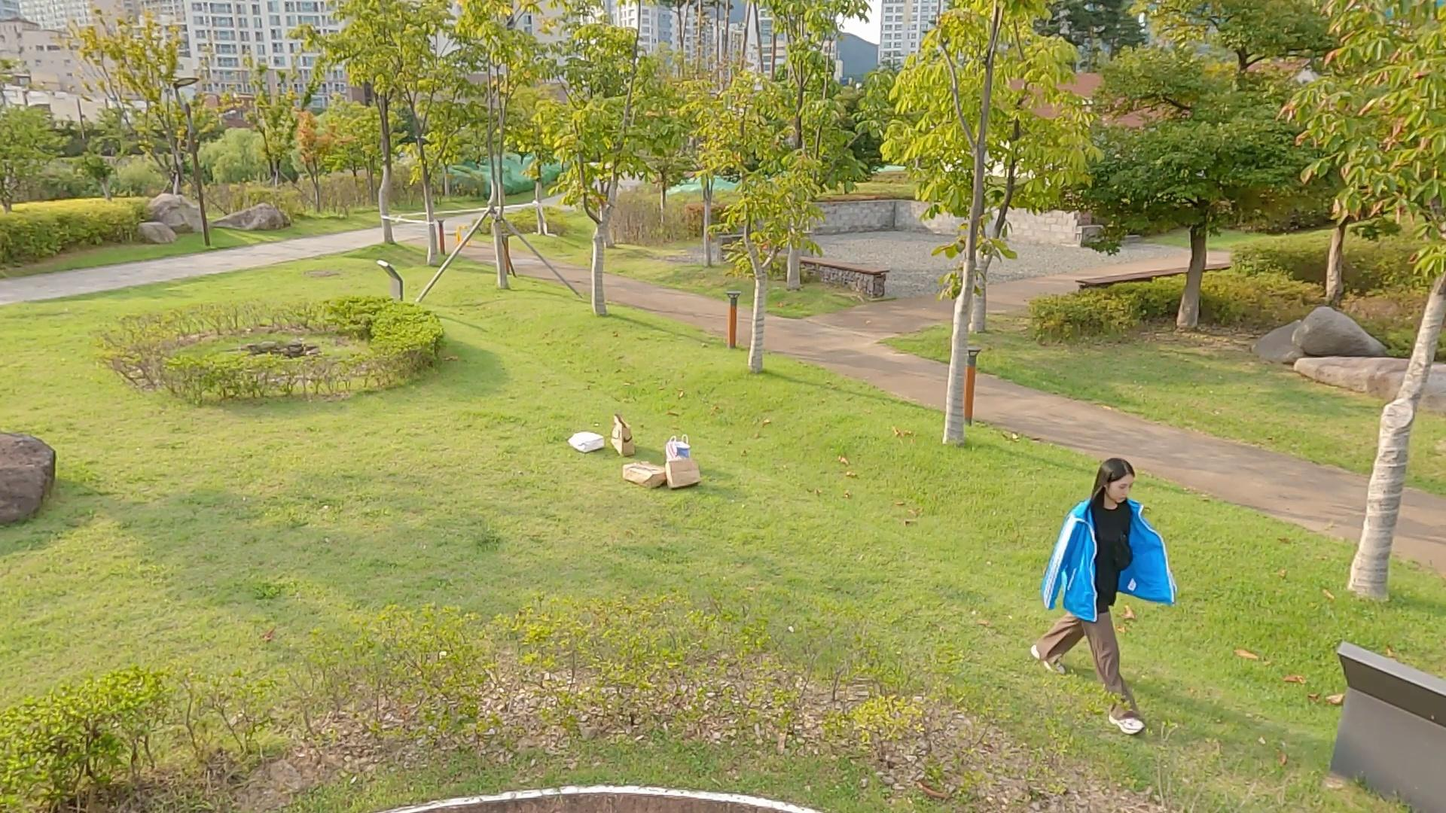person: (1028, 454, 1180, 733)
trash: (611, 412, 636, 457), (622, 461, 667, 484), (668, 460, 701, 489), (567, 432, 605, 453), (664, 433, 692, 457)
